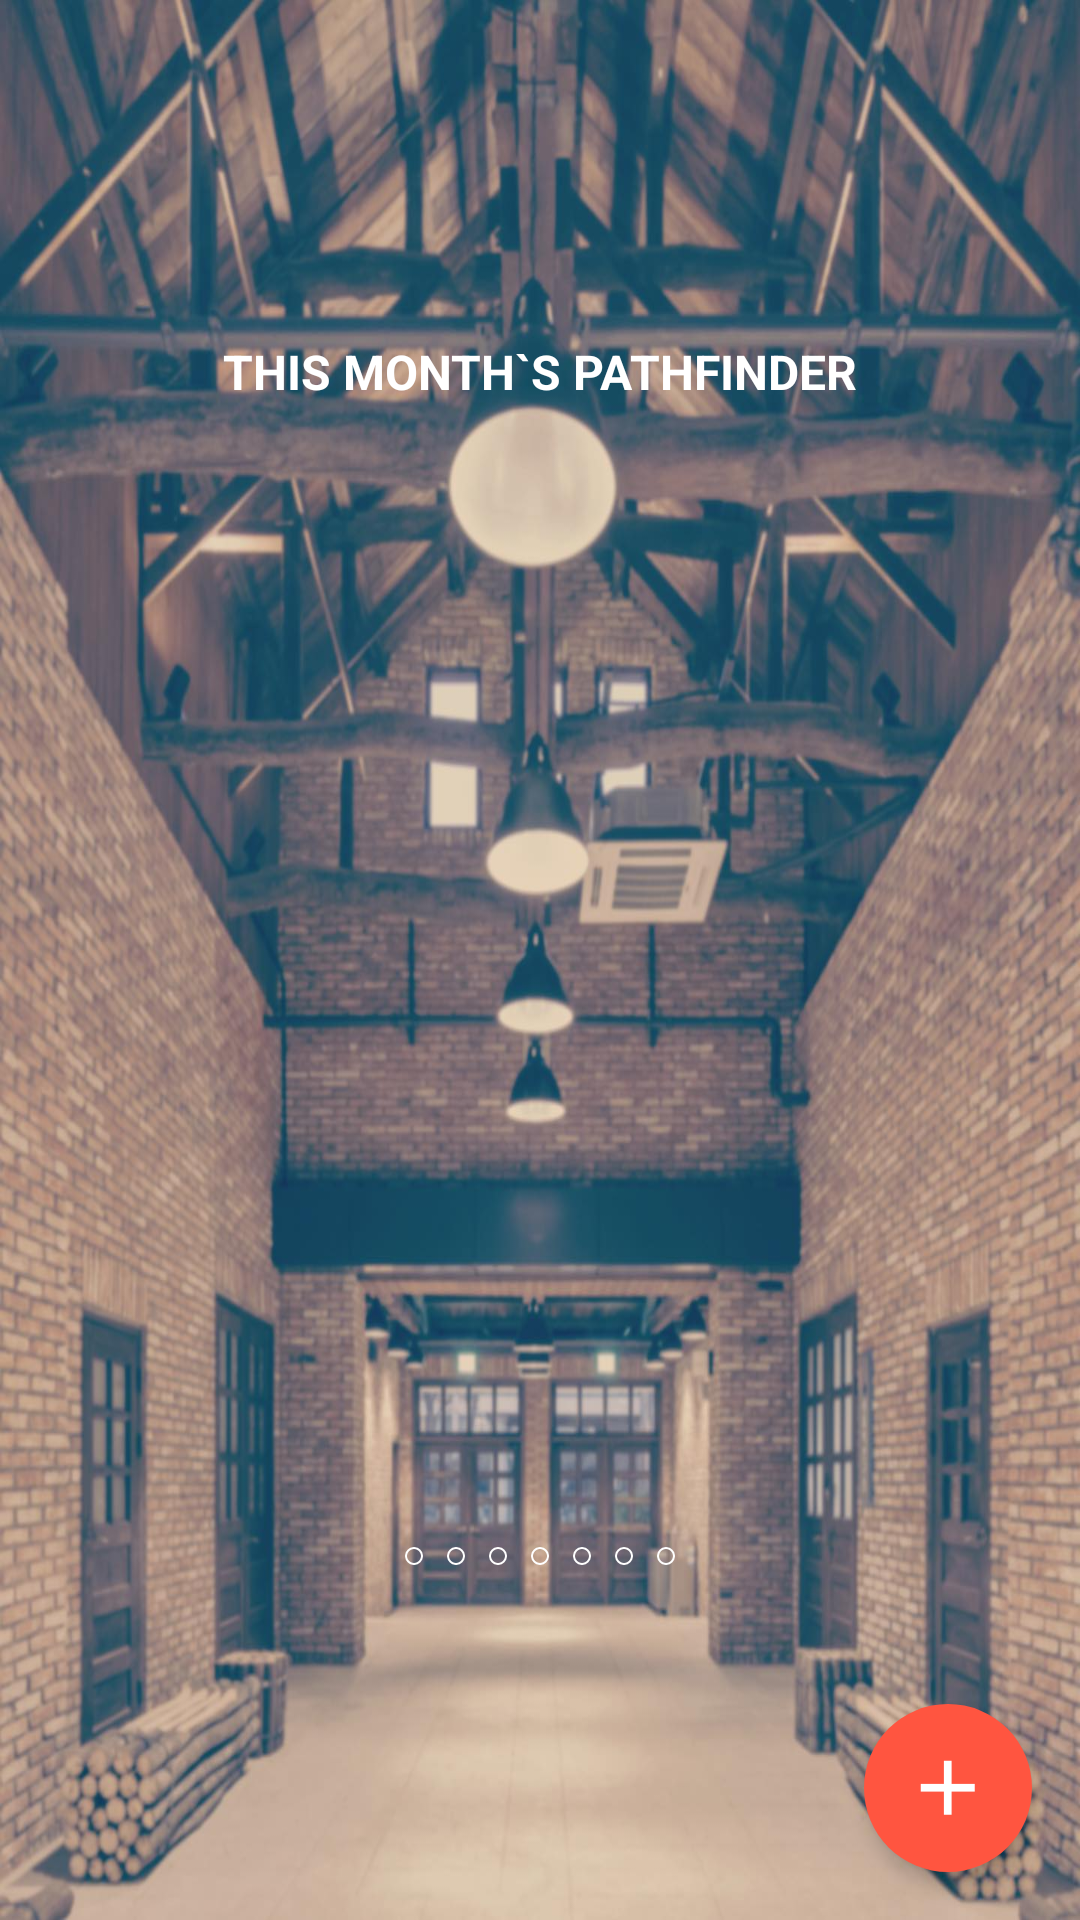

Named icons in this screenshot (1080px×1920px) and their centers, (x=x, y=y):
fab plus open: (x=948, y=1788)
